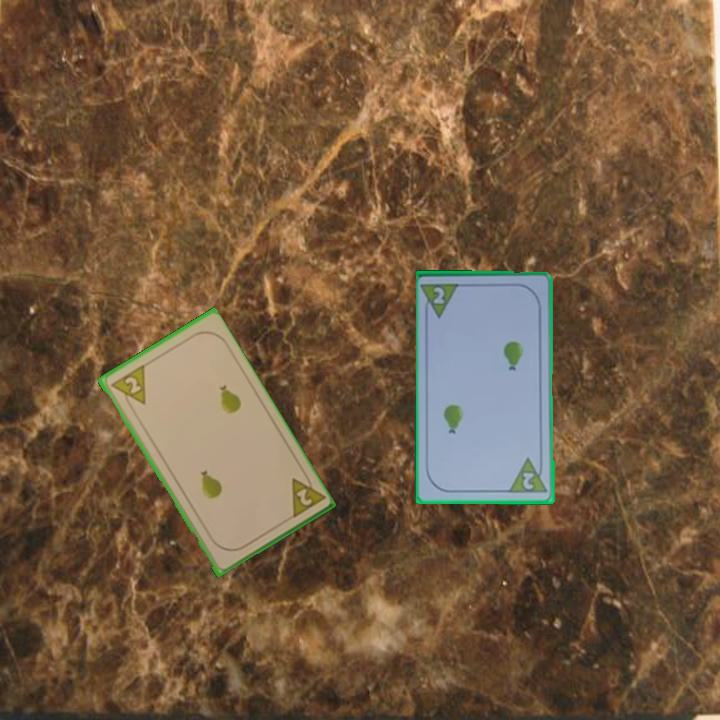2p: (106, 362, 149, 413), (286, 468, 326, 522), (430, 283, 447, 307), (520, 469, 537, 492)
